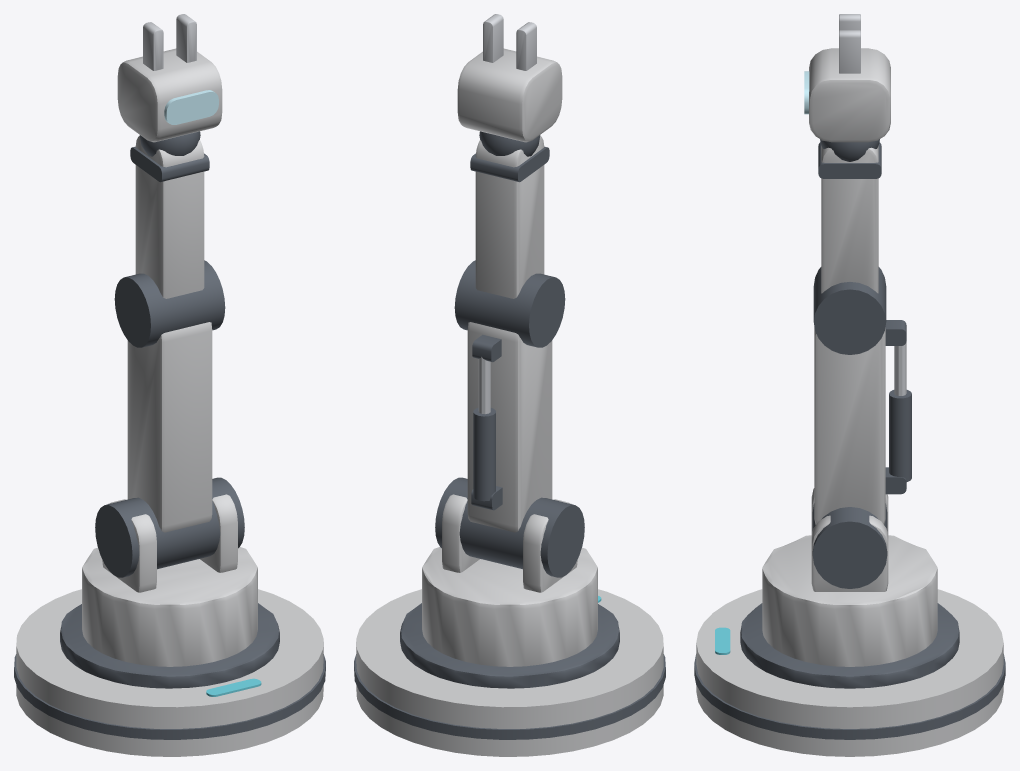
File: SM_IncRobotArm.fbx
3 views of the same model, side by side, from view 1: azimuth 30°, elevation 25°; view 2: azimuth 150°, elevation 25°; view 3: azimuth 270°, elevation 25° (orthographic).
Parts seen in each view (by area): view 1: IncRobotArm, ArmTurret, ArmUpper, ArmFore, ArmHead; view 2: IncRobotArm, ArmTurret, ArmUpper, ArmFore, ArmHead; view 3: IncRobotArm, ArmTurret, ArmUpper, ArmFore, ArmHead.
Boxes of the visible parts, x1,y1,x2,y2 form: IncRobotArm: (14,589,325,756); ArmTurret: (82,477,257,666); ArmUpper: (114,260,225,532); ArmFore: (130,131,209,298); ArmHead: (117,14,222,142); IncRobotArm: (354,589,665,756); ArmTurret: (422,477,597,666); ArmUpper: (454,260,565,532); ArmFore: (470,131,549,298); ArmHead: (457,14,562,142); IncRobotArm: (694,589,1005,756); ArmTurret: (762,488,937,666); ArmUpper: (813,267,911,524); ArmFore: (818,139,881,293); ArmHead: (804,14,890,142).
Size of the model in its own units: 0.568 by 1.35 by 0.568.
